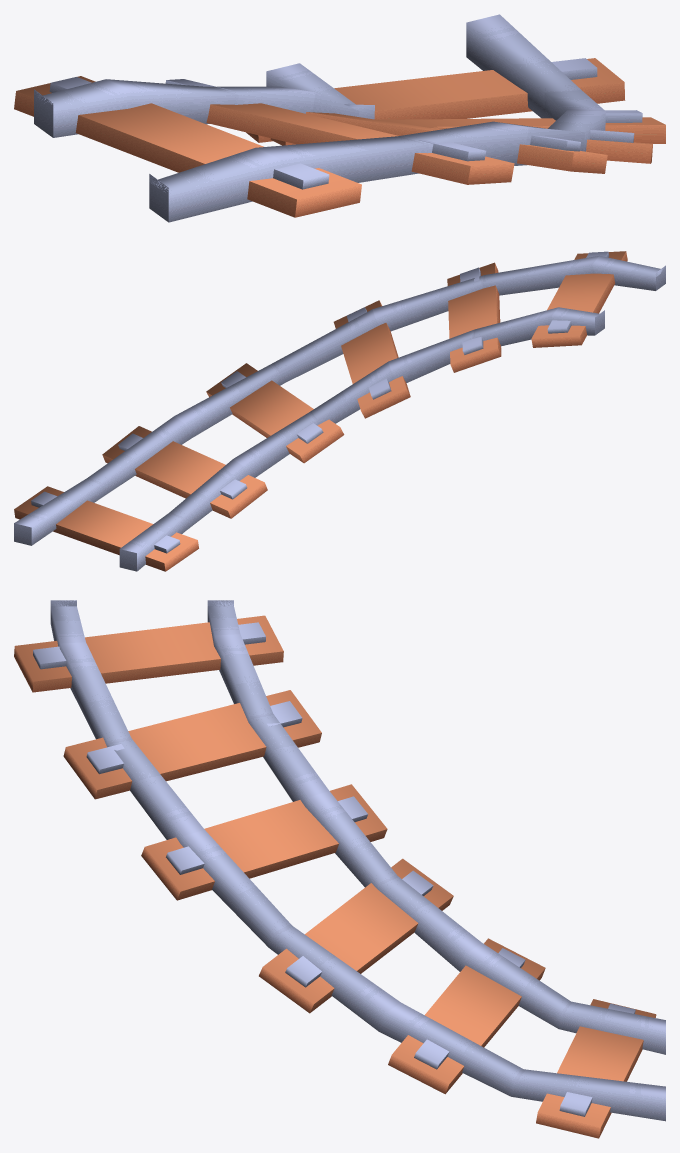
File: railroad_damaged_corner_small_ramp.glb
3 views of the same model, one above another, from view 1: azimuth 30°, elevation 25°; view 2: azimuth 150°, elevation 25°; view 3: azimuth 270°, elevation 25° (orthographic). The views are drawn at different scales.
Visible parts, largest first — view 1: railroad-damaged-corner-small-ramp; view 2: railroad-damaged-corner-small-ramp; view 3: railroad-damaged-corner-small-ramp.
Part boxes in pixels (x1,y1,x2,y2): railroad-damaged-corner-small-ramp: [14, 14, 665, 222]; railroad-damaged-corner-small-ramp: [14, 251, 665, 571]; railroad-damaged-corner-small-ramp: [14, 600, 665, 1138].
Size of the model in its own units: 2.49 by 1.11 by 2.49.
Materials: 1 (1 with a texture image).
